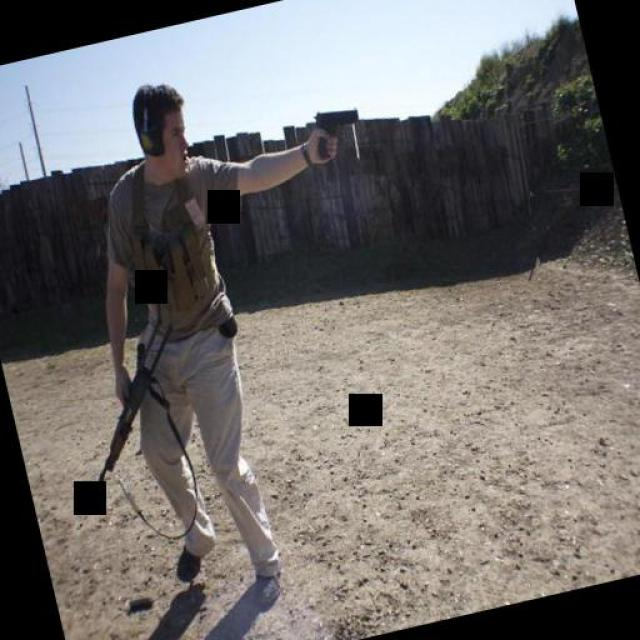gun: (301, 98, 371, 166)
